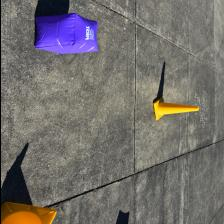cone: (0, 201, 56, 224), (152, 96, 198, 120)
cube: (34, 12, 98, 54)
